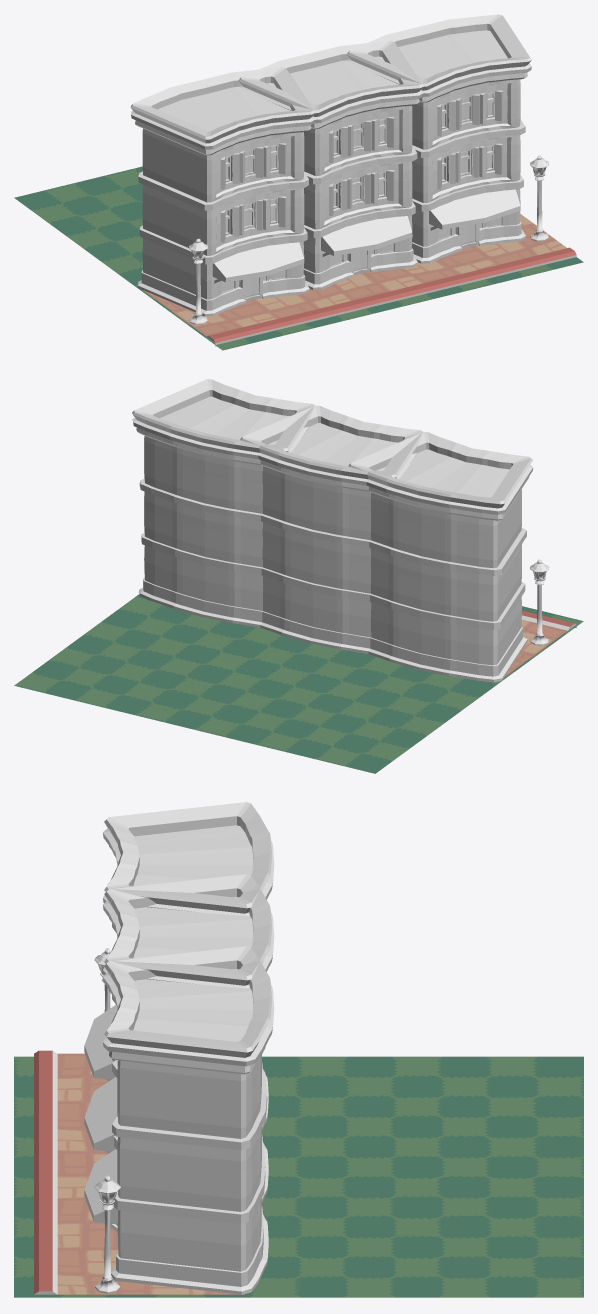
File: Model_BorderSIde.fbx
The picture shows the model from 3 angles, top to bottom: view 1: azimuth 30°, elevation 25°; view 2: azimuth 150°, elevation 25°; view 3: azimuth 270°, elevation 25°; orthographic projection. The views are drawn at different scales.
Visible parts, largest first — view 1: Cube.008, Plane.020, Plane.012, Cube.009; view 2: Cube.008, Plane.012, Plane.020, Cube.009; view 3: Plane.012, Cube.008, Plane.020, Cube.009.
Boxes of the visible parts, <box> form: Cube.008: <box>130,14,531,316</box>; Plane.020: <box>143,214,576,346</box>; Plane.012: <box>14,166,583,350</box>; Cube.009: <box>188,155,549,324</box>; Cube.008: <box>132,379,533,682</box>; Plane.012: <box>14,594,583,773</box>; Plane.020: <box>139,592,576,677</box>; Cube.009: <box>530,559,549,645</box>; Plane.012: <box>14,1056,583,1297</box>; Cube.008: <box>84,802,274,1294</box>; Plane.020: <box>34,1050,243,1294</box>; Cube.009: <box>94,948,120,1293</box>.
Size of the model in its own units: 2476 by 1185 by 2399.
